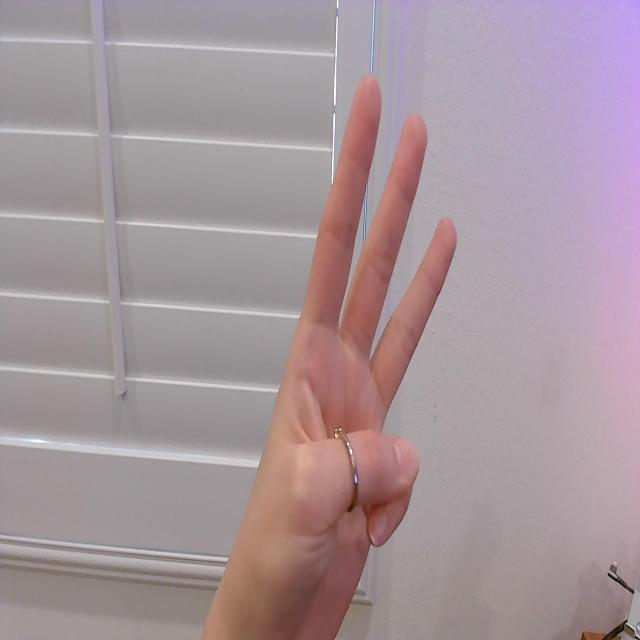W: (262, 66, 458, 606)
